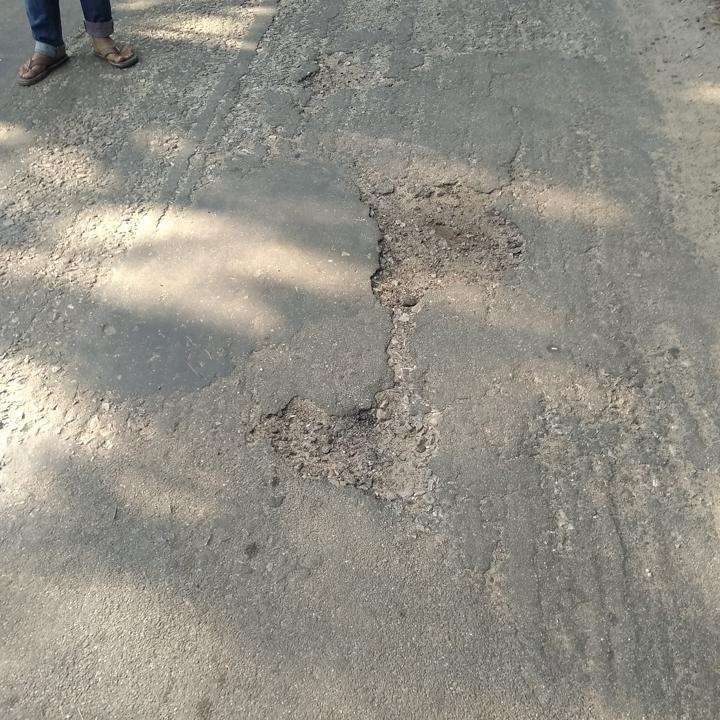pothole: (361, 173, 530, 314), (272, 379, 439, 518)
